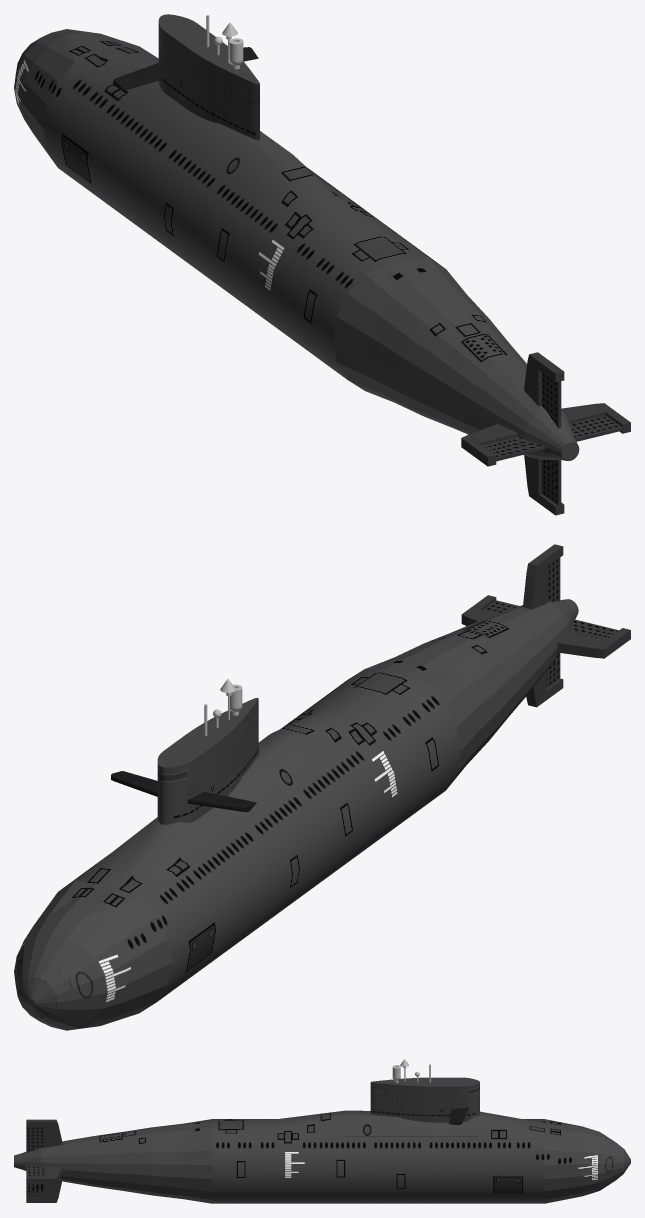
Rendered from Submarine.FBX.
3 renders of one model, top to bottom at view 1: azimuth 30°, elevation 25°; view 2: azimuth 150°, elevation 25°; view 3: azimuth 270°, elevation 25°, orthographic. The views are drawn at different scales.
Visible parts, largest first — view 1: Submarine; view 2: Submarine; view 3: Submarine.
Boxes of the visible parts, x1,y1,x2,y2 form: Submarine: [14, 14, 630, 515]; Submarine: [14, 544, 630, 1030]; Submarine: [14, 1059, 630, 1203].
Size of the model in its own units: 28.02 by 46.65 by 183.
Materials: 5 (3 with a texture image).
